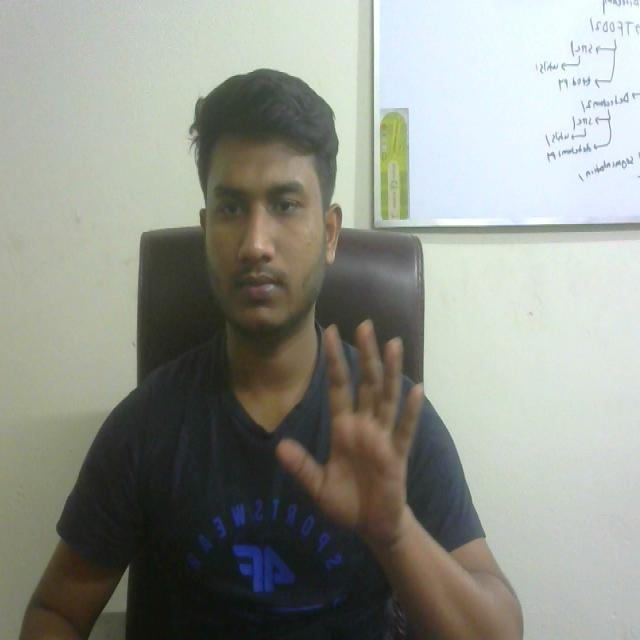A: (269, 308, 437, 556)
